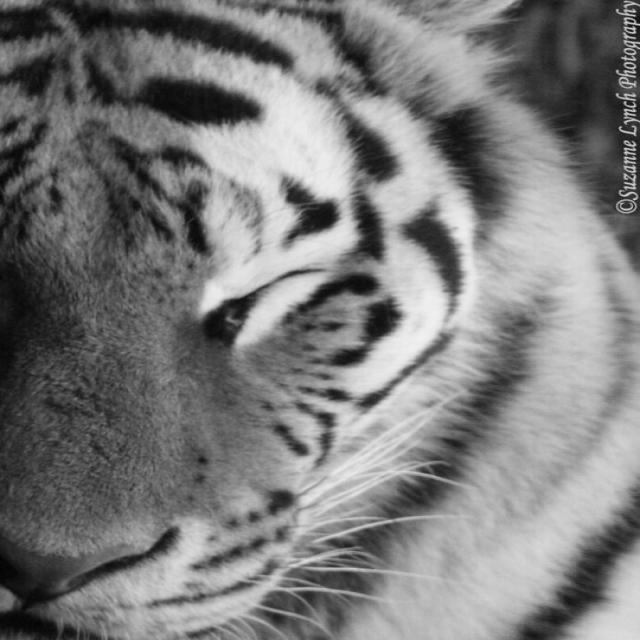Tiger: (0, 2, 628, 634)
